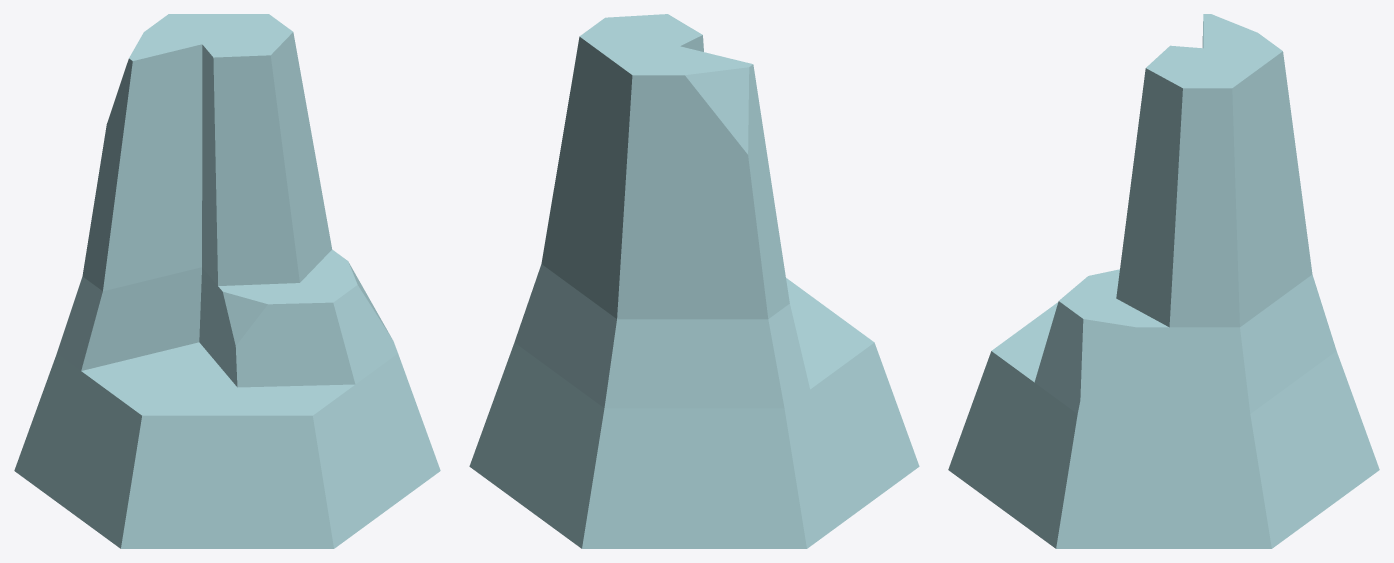
File: stone_tallH.obj
3 renders of one model, left to right at view 1: azimuth 30°, elevation 25°; view 2: azimuth 150°, elevation 25°; view 3: azimuth 270°, elevation 25°, orthographic. The views are drawn at different scales.
Visible parts, largest first — view 1: stone_tallH; view 2: stone_tallH; view 3: stone_tallH.
Part boxes in pixels (left/top/right/bottom): stone_tallH: left=14, top=14, right=440, bottom=548; stone_tallH: left=469, top=14, right=919, bottom=548; stone_tallH: left=948, top=14, right=1379, bottom=548.
Bounding box in the file's own units: 0.5749 × 0.7108 × 0.6639.
